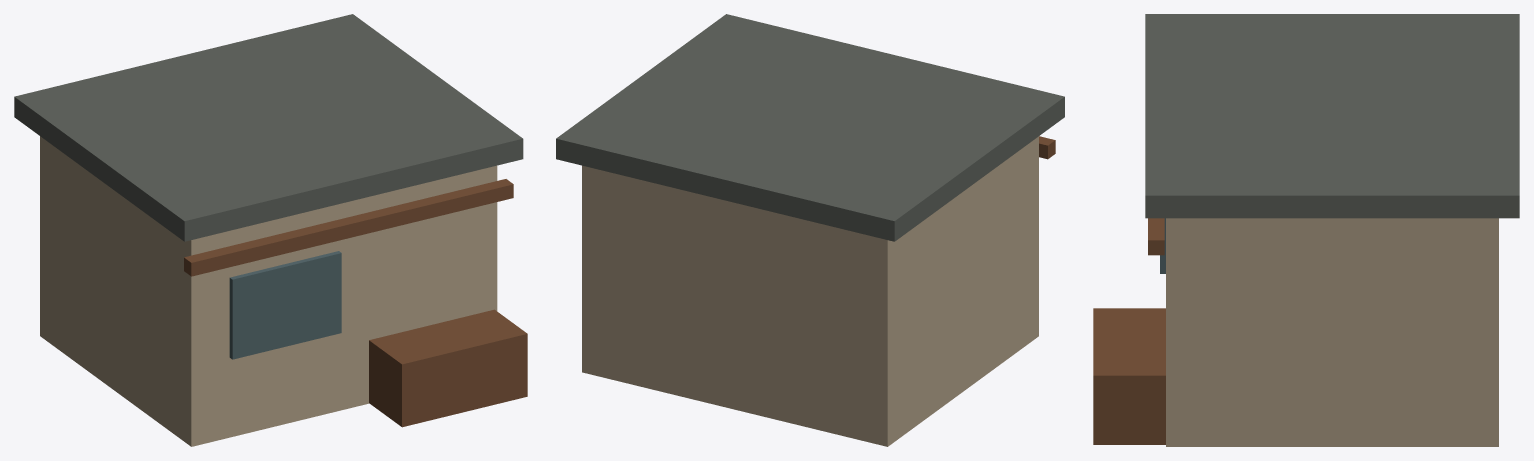
File: Tailor.glb
3 views of the same model, side by side, from view 1: azimuth 30°, elevation 25°; view 2: azimuth 150°, elevation 25°; view 3: azimuth 270°, elevation 25° (orthographic). The views are drawn at different scales.
Parts seen in each view (by area): view 1: hand-pump-static-tailor-wall, hand-pump-static-tailor-roof, hand-pump-static-tailor-timber, hand-pump-static-tailor-window; view 2: hand-pump-static-tailor-wall, hand-pump-static-tailor-roof; view 3: hand-pump-static-tailor-roof, hand-pump-static-tailor-wall, hand-pump-static-tailor-timber.
Part boxes in pixels (box(x1,y1,x2,y2)): hand-pump-static-tailor-wall: box(40, 136, 497, 446); hand-pump-static-tailor-roof: box(14, 14, 523, 241); hand-pump-static-tailor-timber: box(184, 179, 527, 427); hand-pump-static-tailor-window: box(229, 251, 341, 359); hand-pump-static-tailor-wall: box(582, 136, 1038, 446); hand-pump-static-tailor-roof: box(556, 14, 1064, 241); hand-pump-static-tailor-roof: box(1145, 14, 1519, 218); hand-pump-static-tailor-wall: box(1166, 218, 1498, 446); hand-pump-static-tailor-timber: box(1093, 218, 1165, 444).
Bounding box in the file's own units: 3.1 × 2.07 × 3.08.
